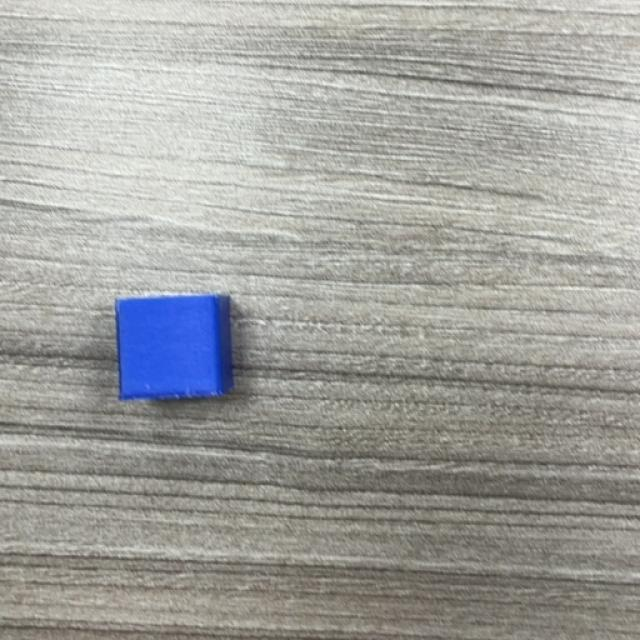Azul: (116, 295, 235, 401)
